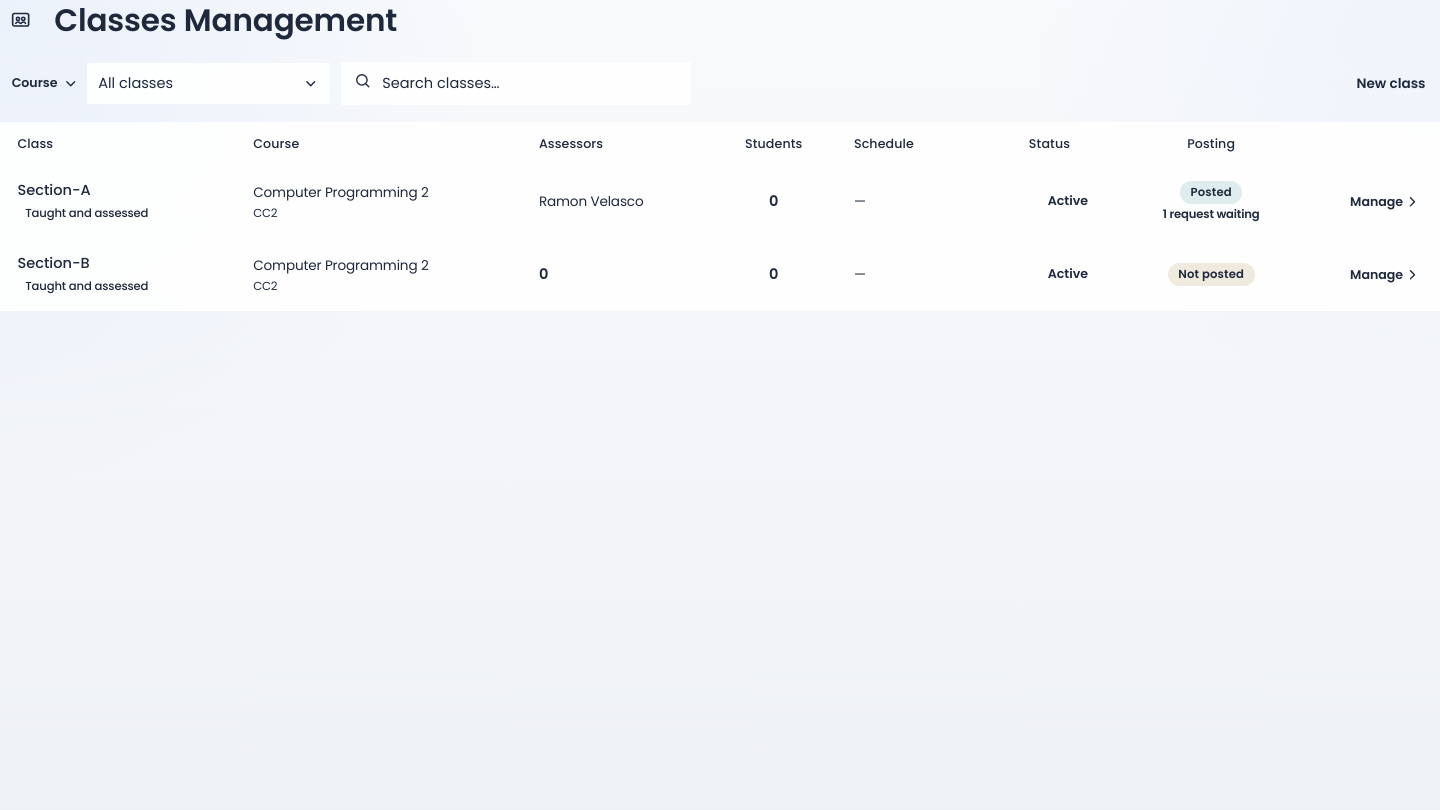
Test: Posting › closes only the pop-up on Escape, not the Edit window
The width and height of the screenshot is (1440, 810).
Click the button "Section-A".
click(54, 190)  # box [18,180,91,201]
(page scrolled)
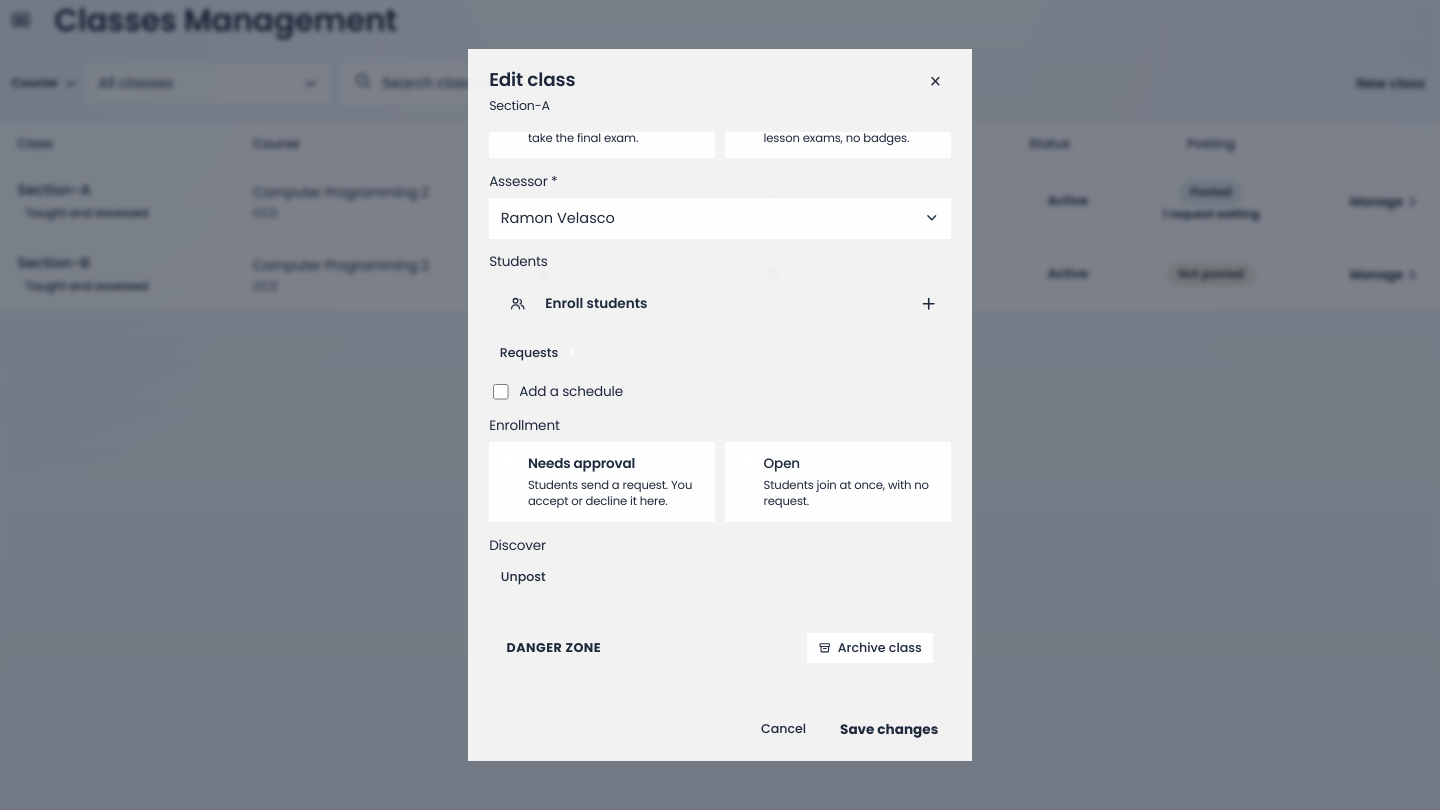
Click the button "Unpost".
click(523, 577)  # box [489,561,557,592]
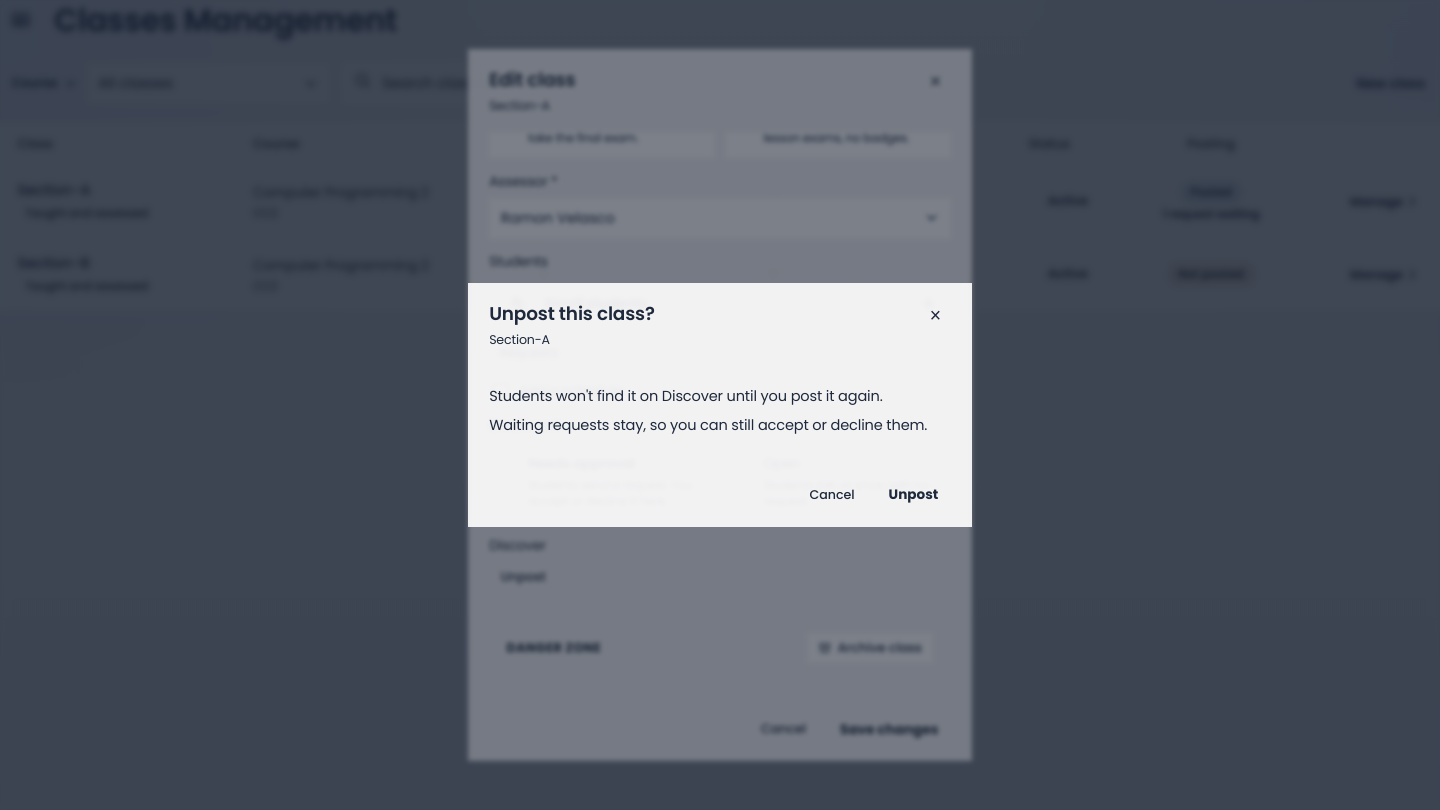
Press Escape
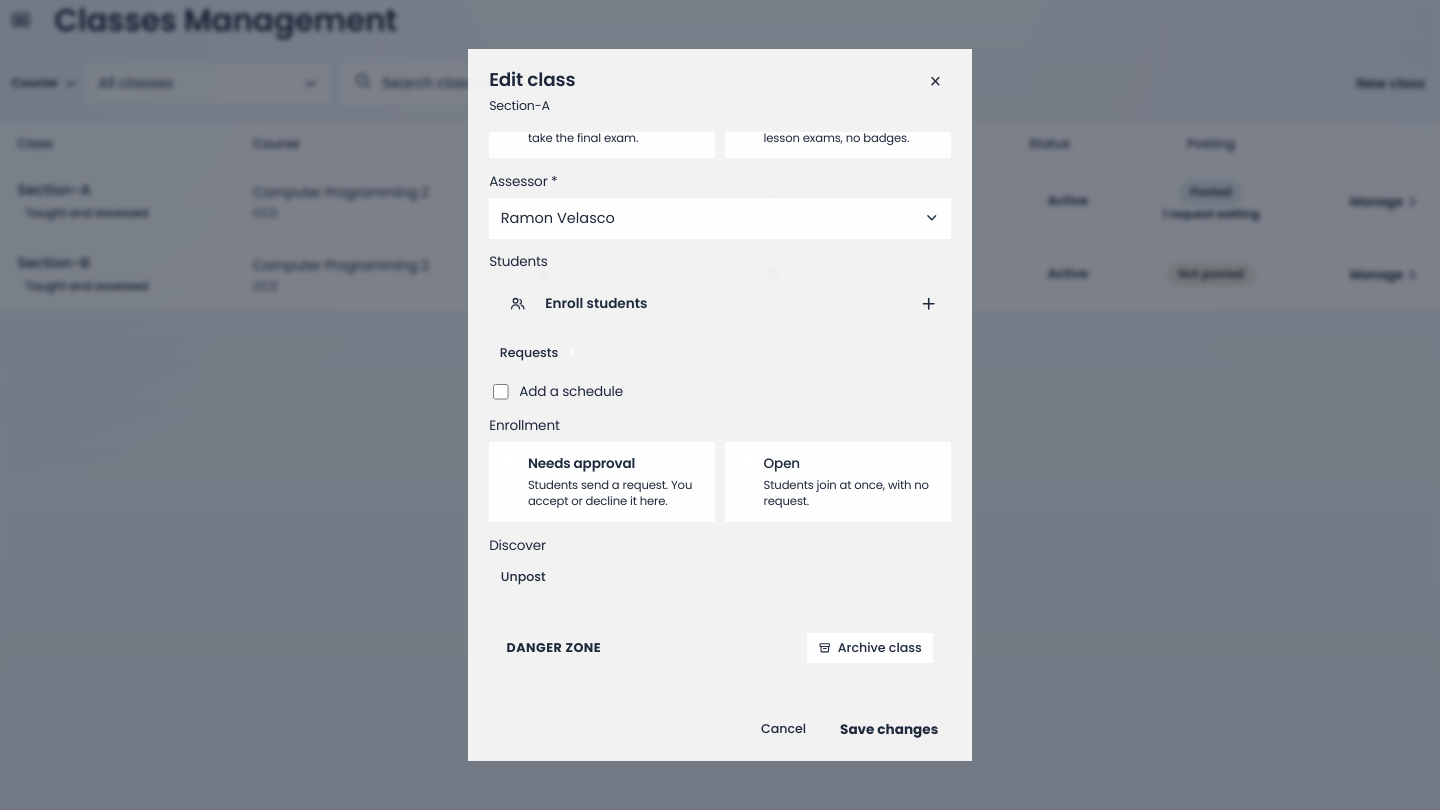
Result: the dialog "Edit class" is shown
Result: the heading "Unpost this class?" is gone
